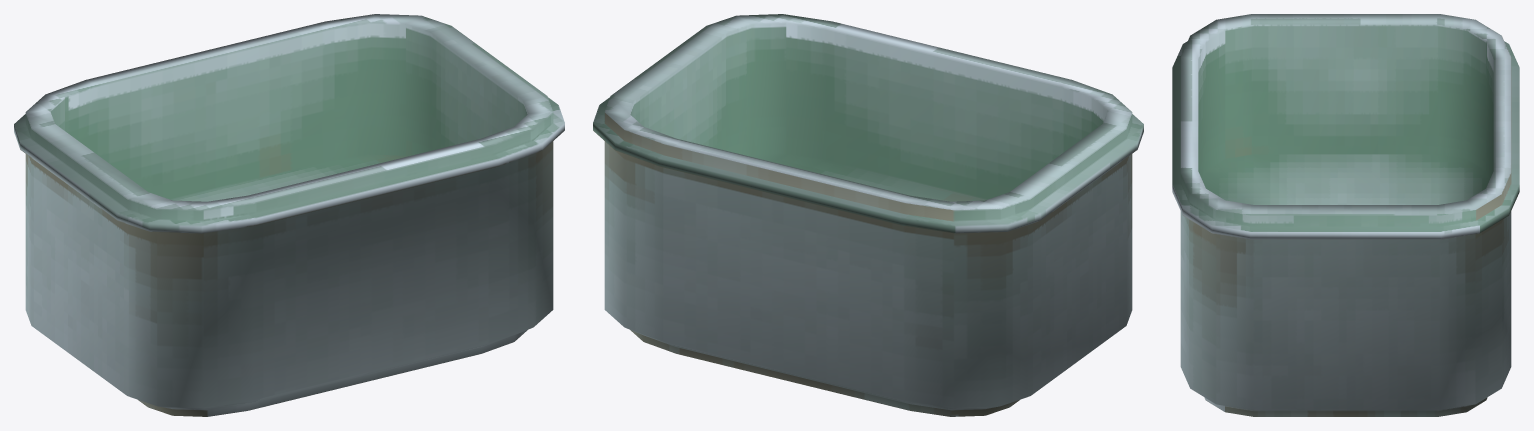
Rendered from tub2.fbx.
The picture shows the model from 3 angles, left to right: view 1: azimuth 30°, elevation 25°; view 2: azimuth 150°, elevation 25°; view 3: azimuth 270°, elevation 25°; orthographic projection.
Visible parts, largest first — view 1: Tub2; view 2: Tub2; view 3: Tub2.
Part boxes in pixels (x1,y1,x2,y2): Tub2: [14, 14, 564, 416]; Tub2: [593, 14, 1143, 416]; Tub2: [1172, 14, 1519, 416].
Bounding box in the file's own units: 210 × 97.85 × 146.
